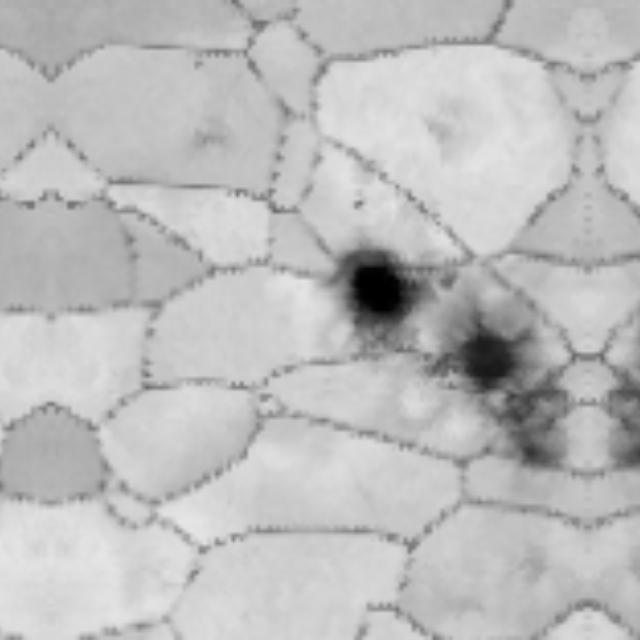good_void: (424, 304, 586, 484), (317, 247, 433, 375), (423, 71, 532, 172), (592, 319, 640, 481), (178, 91, 241, 171), (436, 265, 460, 301), (346, 196, 367, 216)
